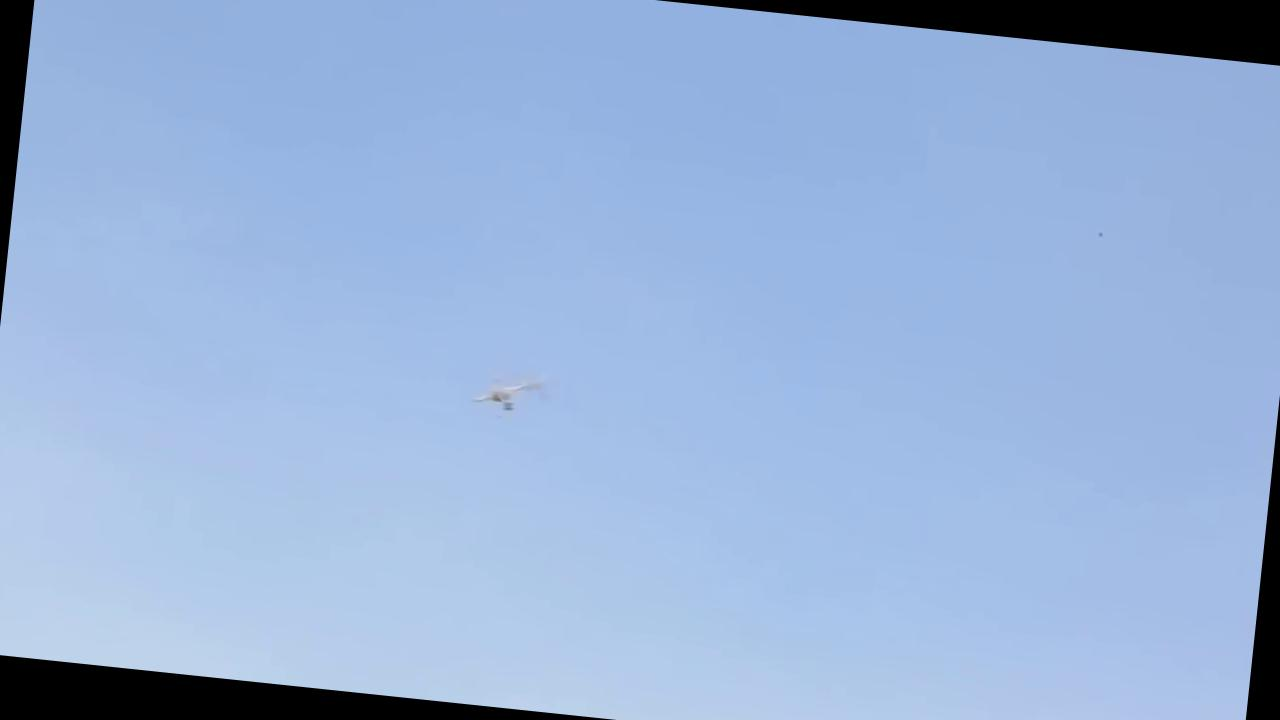drone: (456, 349, 556, 428)
